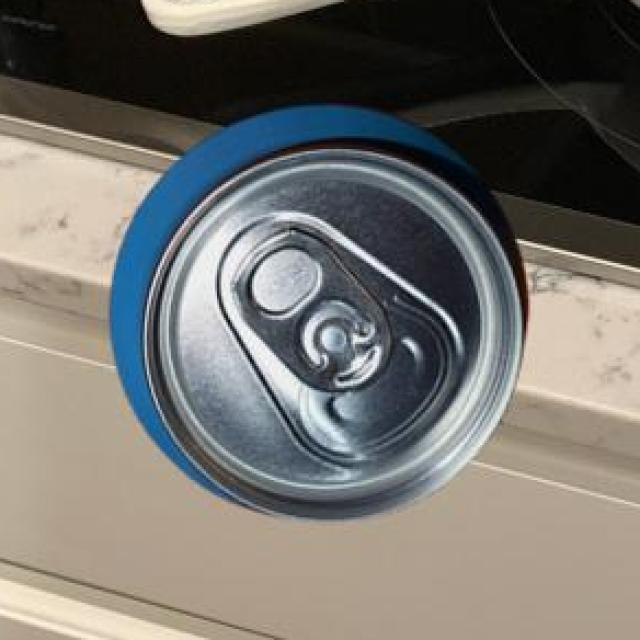logam: (113, 102, 532, 518)
